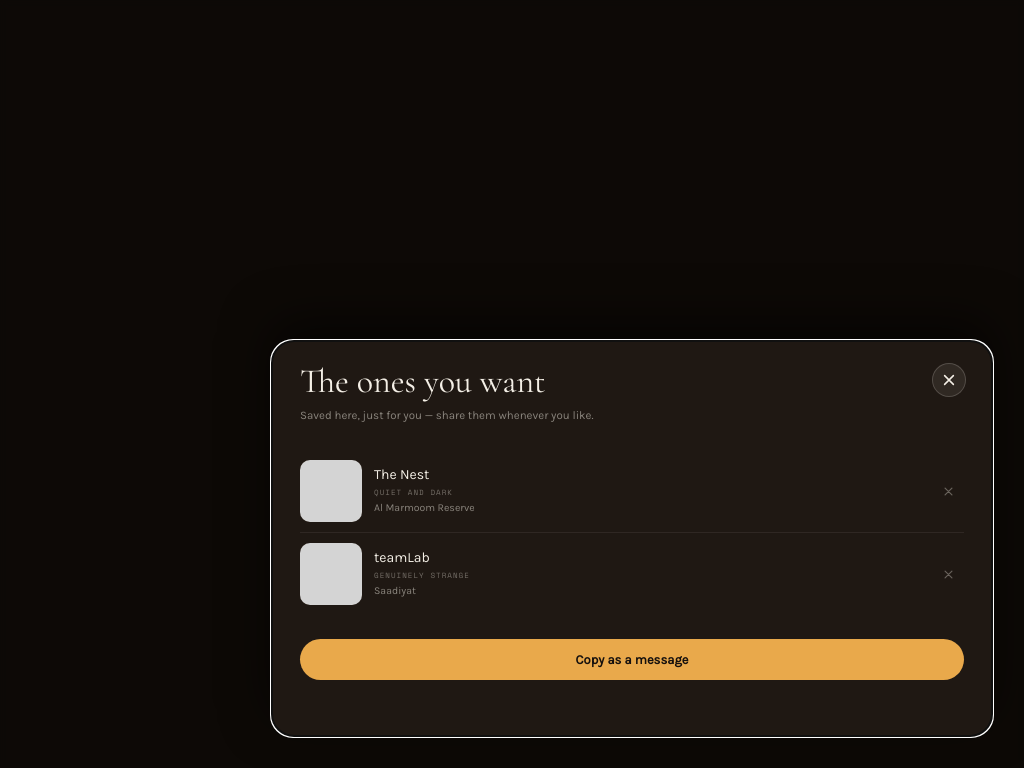
Test case: FavoritesDialog › reports clipboard failure in a persistent live region
The image size is (1024, 768).
Click the button "Copy as a message": [632, 660] box [300,639,964,680]
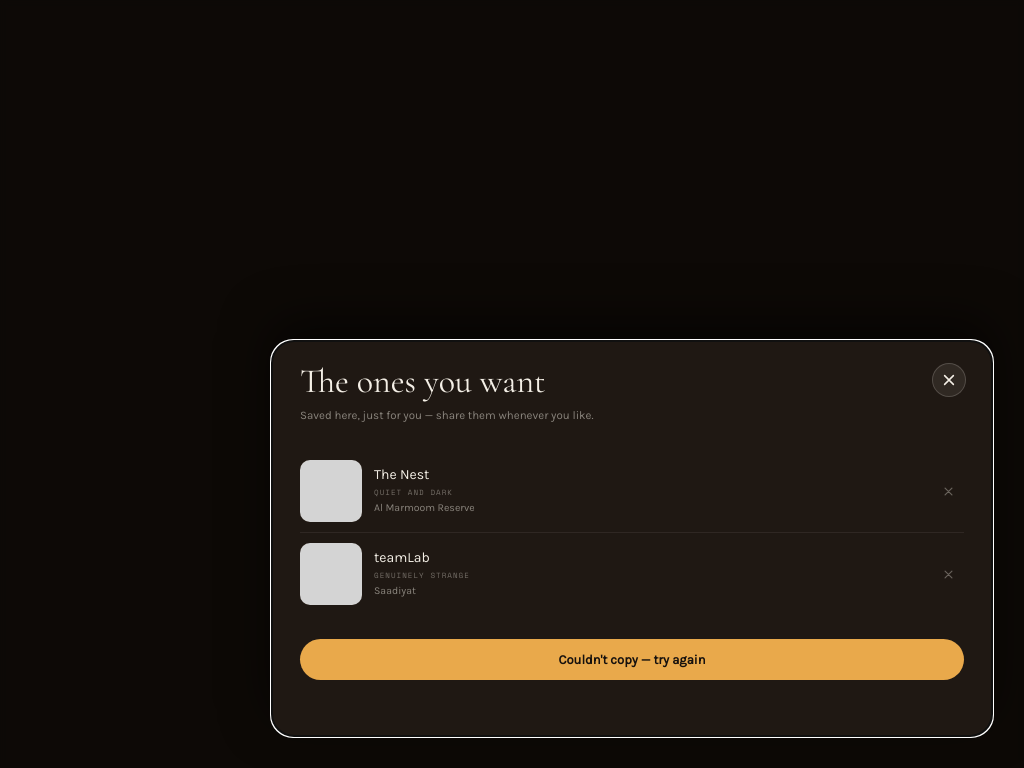
Expected: the button "Couldn't copy — try again" is shown, [300,639,964,680]
